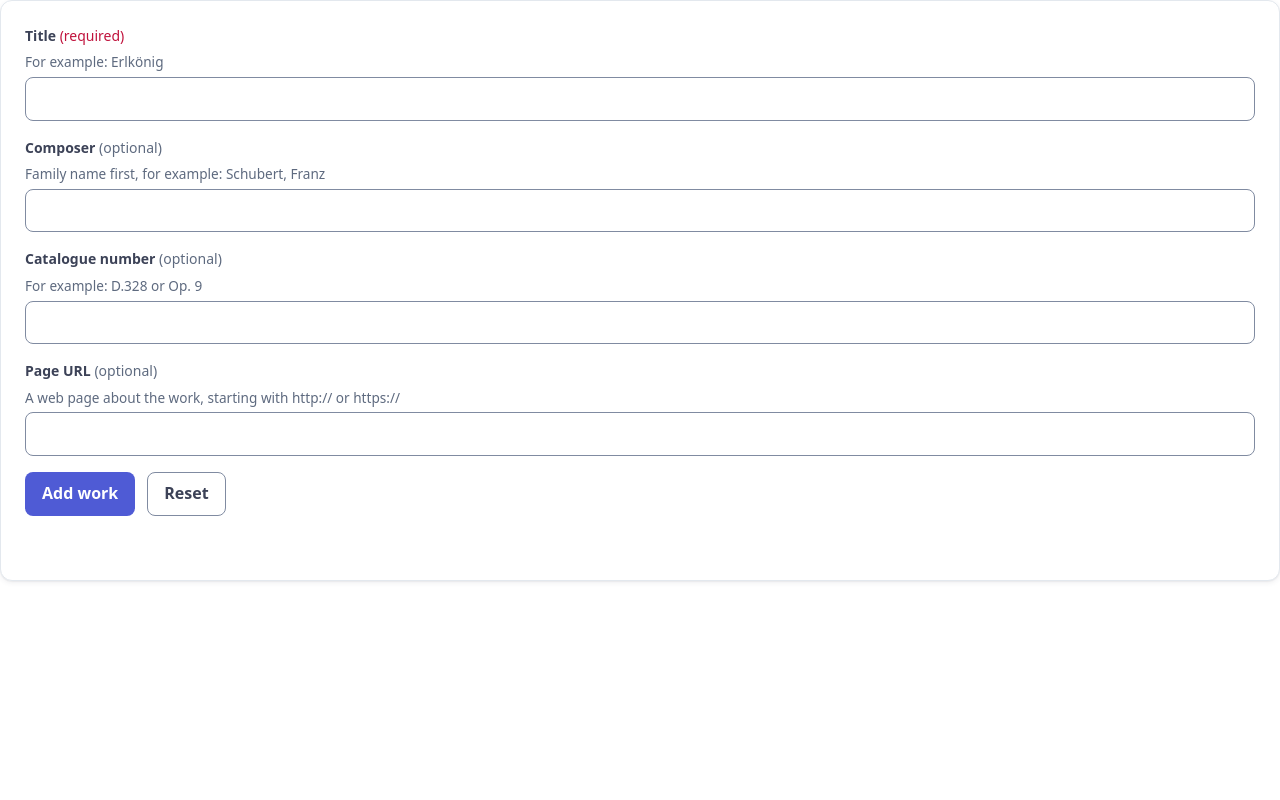
Test: WorkForm › shows a duplicate page URL (409) at the Page URL field
Type "Copy" into the field labelled "Title (required)" at coordinates (640, 99), box [25,77,1255,121]
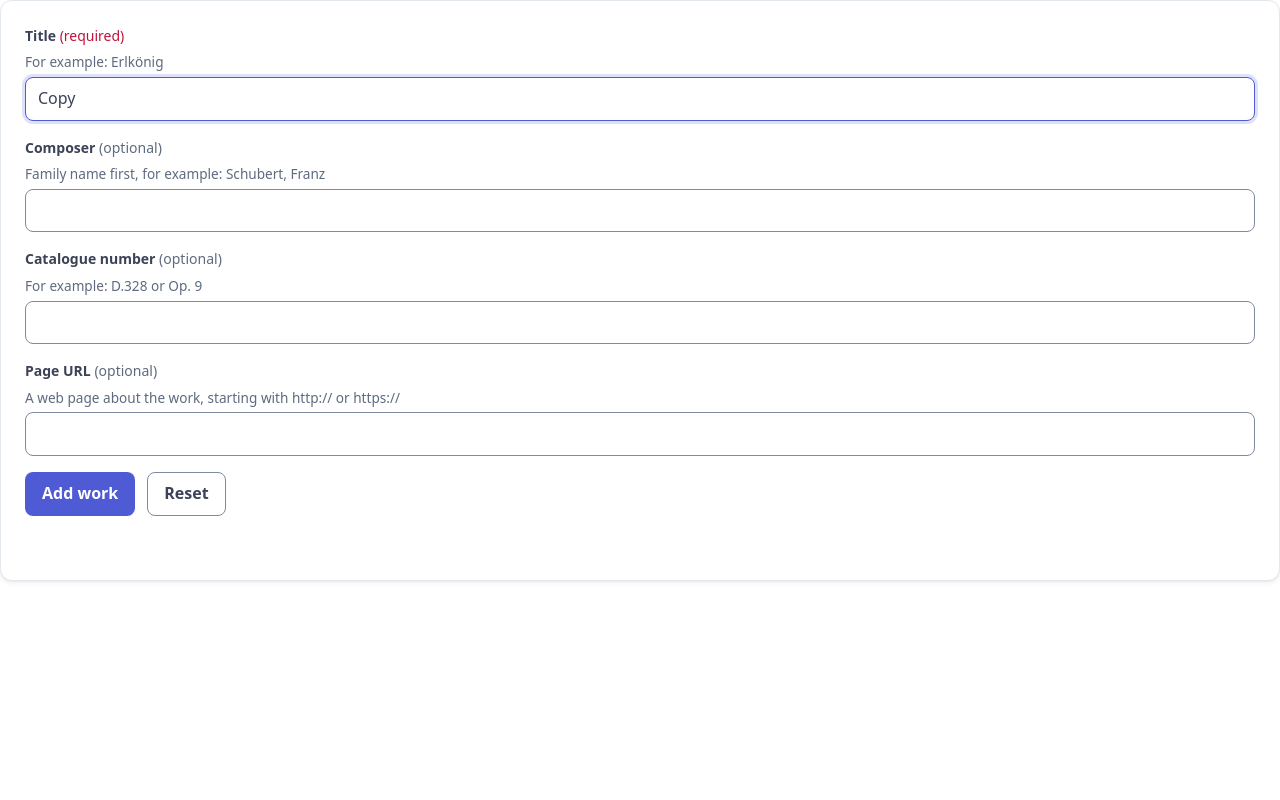
Type "https://a.example/works/1" into the field labelled "Page URL (optional)" at coordinates (640, 434), box [25,412,1255,456]
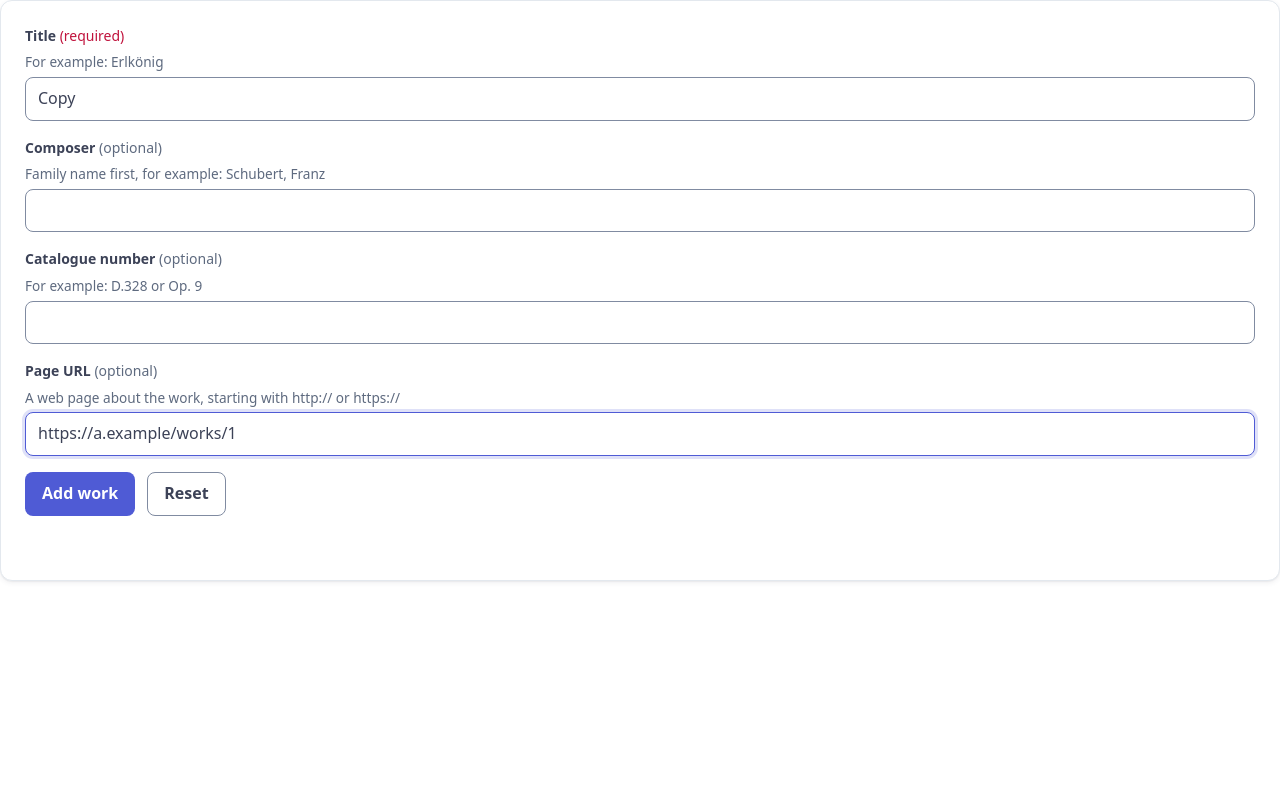
Click the button "Add work" at coordinates (80, 494), box [25,472,135,516]
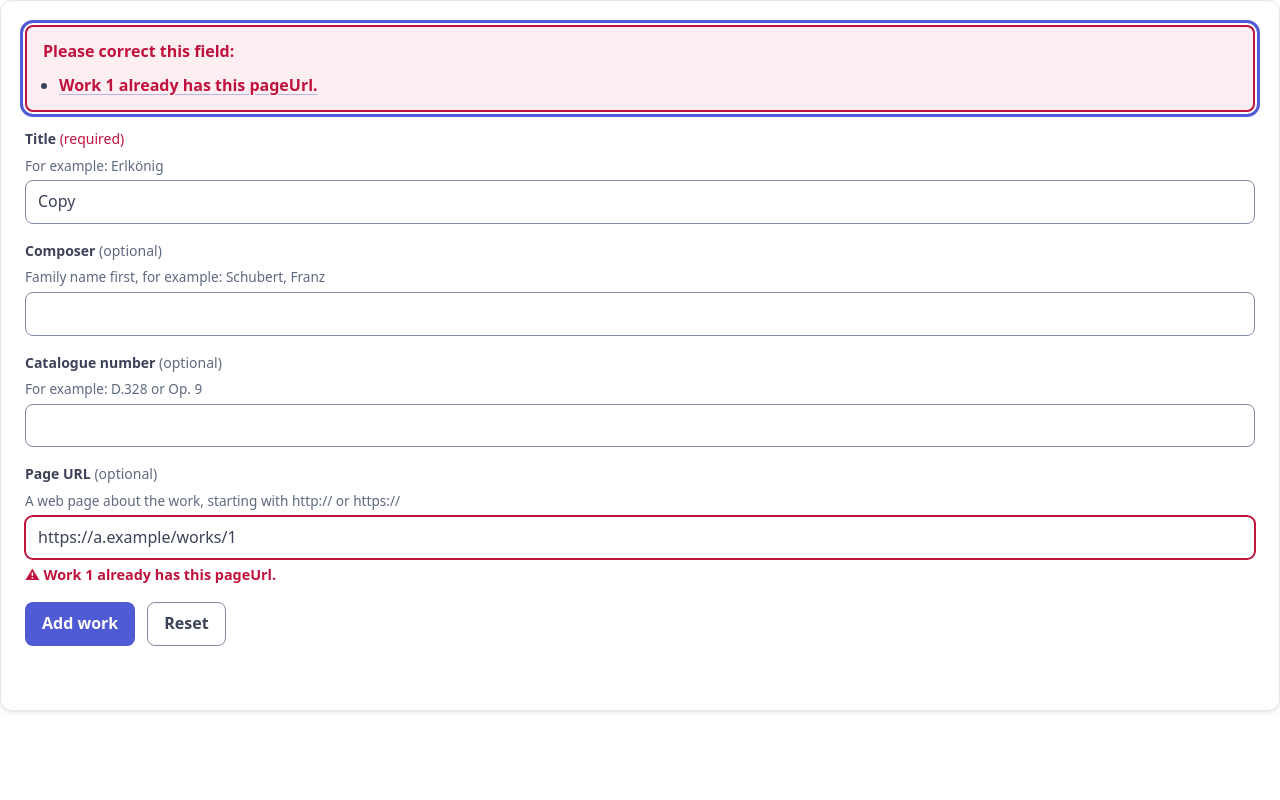
Check: the message "Please correct this field: Work 1 already has this pageUrl." is shown, box [25,25,1255,112]
